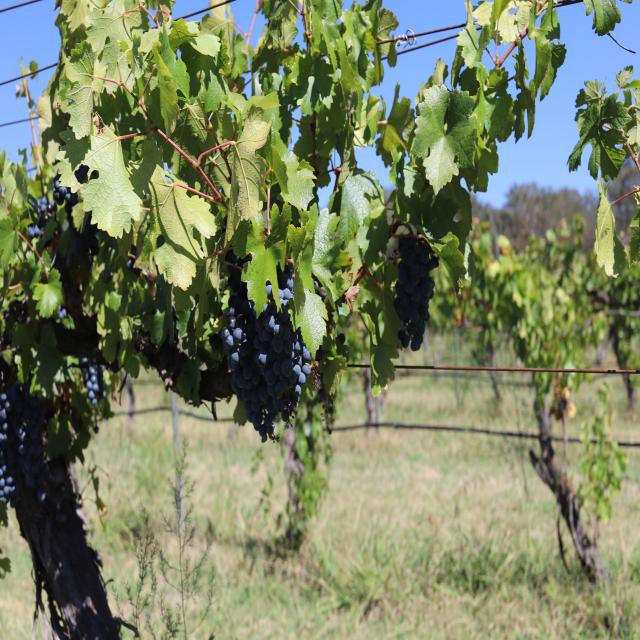grapes: (221, 252, 312, 442), (0, 383, 49, 506), (393, 236, 439, 351)
